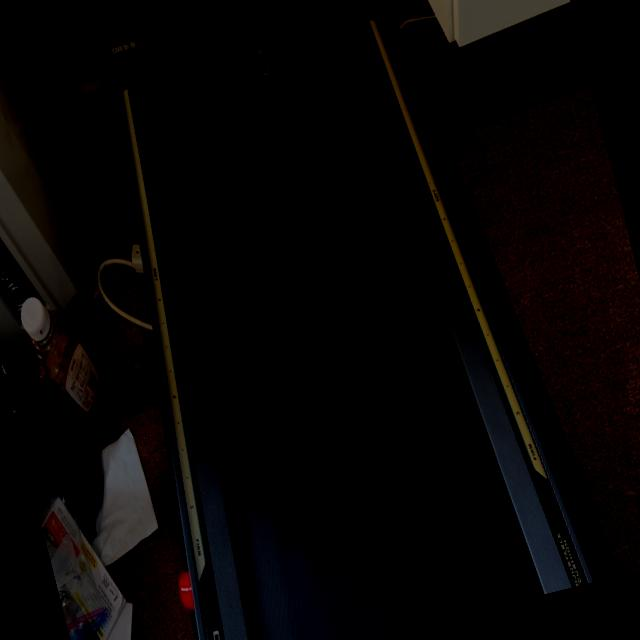Trash: (244, 42, 274, 82)
